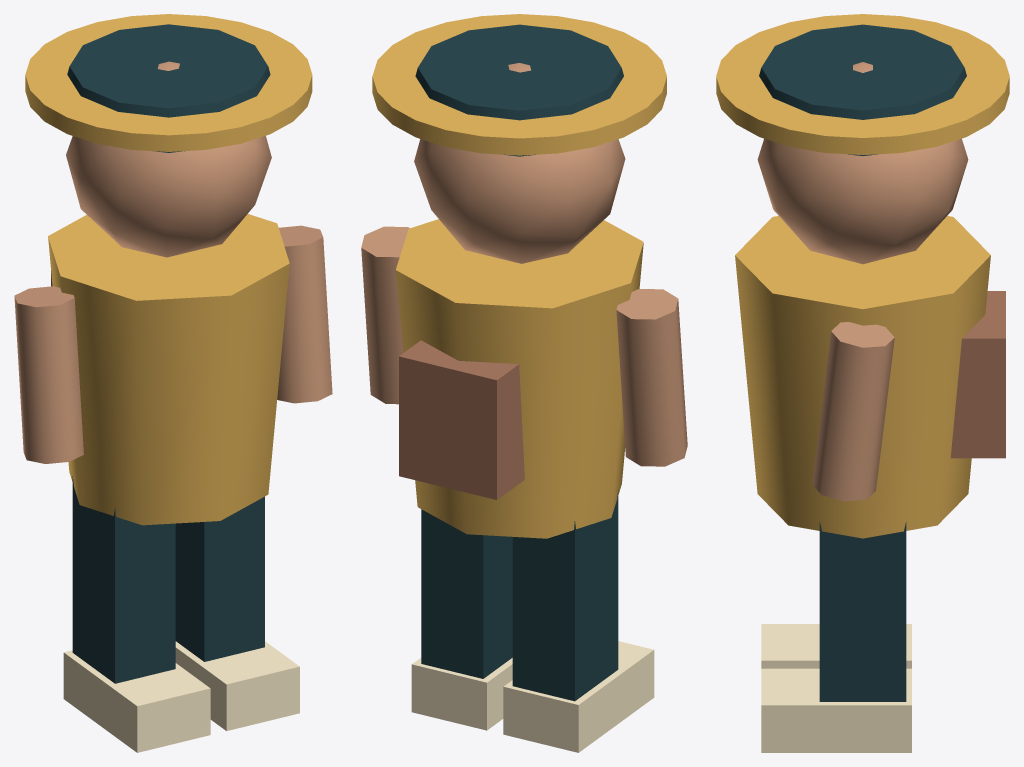
The model's file is guest_c.glb.
3 views of the same model, side by side, from view 1: azimuth 30°, elevation 25°; view 2: azimuth 150°, elevation 25°; view 3: azimuth 270°, elevation 25° (orthographic). The views are drawn at different scales.
Parts seen in each view (by area): view 1: guest_c; view 2: guest_c; view 3: guest_c.
Boxes of the visible parts, x1=… form: guest_c: x1=14, y1=14, x2=332, y2=752; guest_c: x1=361, y1=14, x2=687, y2=752; guest_c: x1=716, y1=14, x2=1009, y2=752.
Size of the model in its own units: 0.95 by 1.9 by 0.78.
